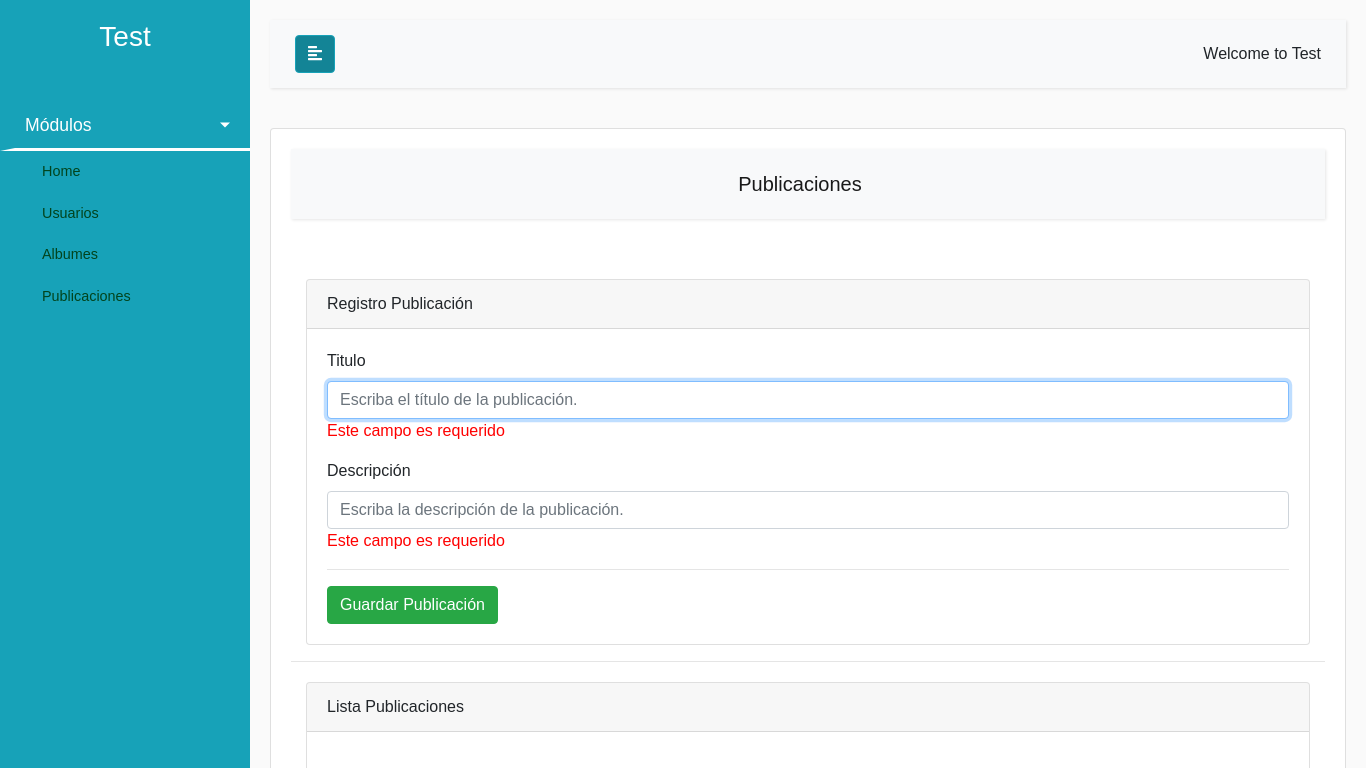
Post › validate function create data
Type "Hola Publicación" into the field with id "inpTitle" at (808, 400), box top-left (327, 381), bottom-right (1289, 419)
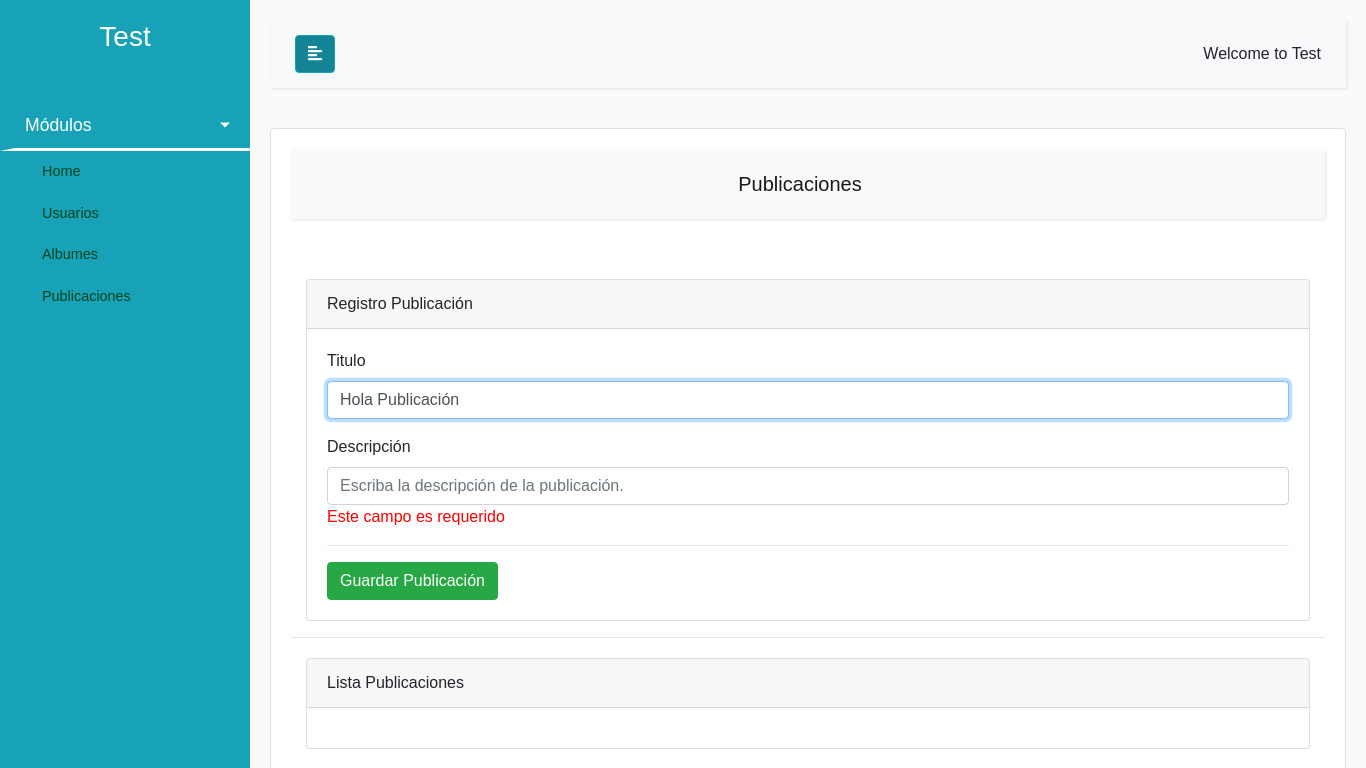
Type "Description Test hello" into the field with id "inpDescription" at (808, 486), box top-left (327, 467), bottom-right (1289, 505)
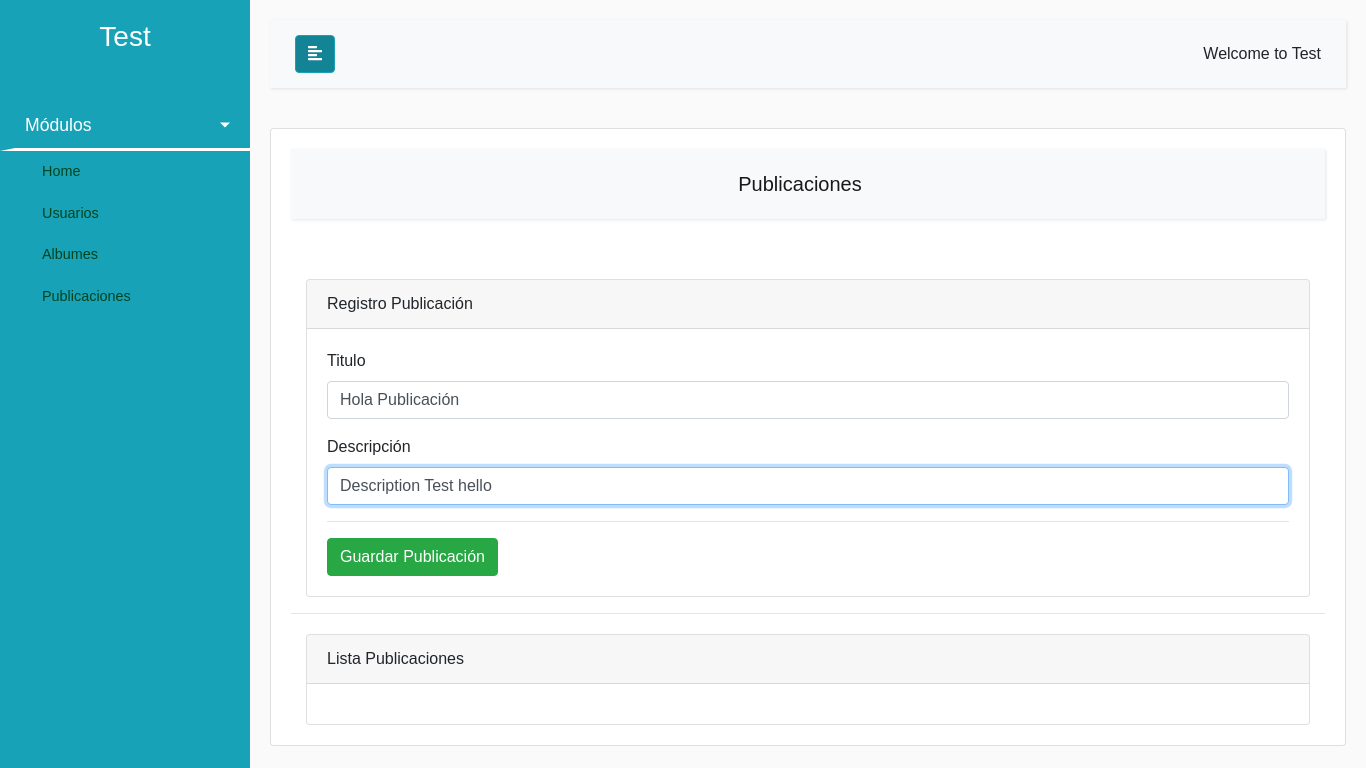
Click the button with id "btnAddPost" at (413, 557), box top-left (327, 538), bottom-right (498, 576)
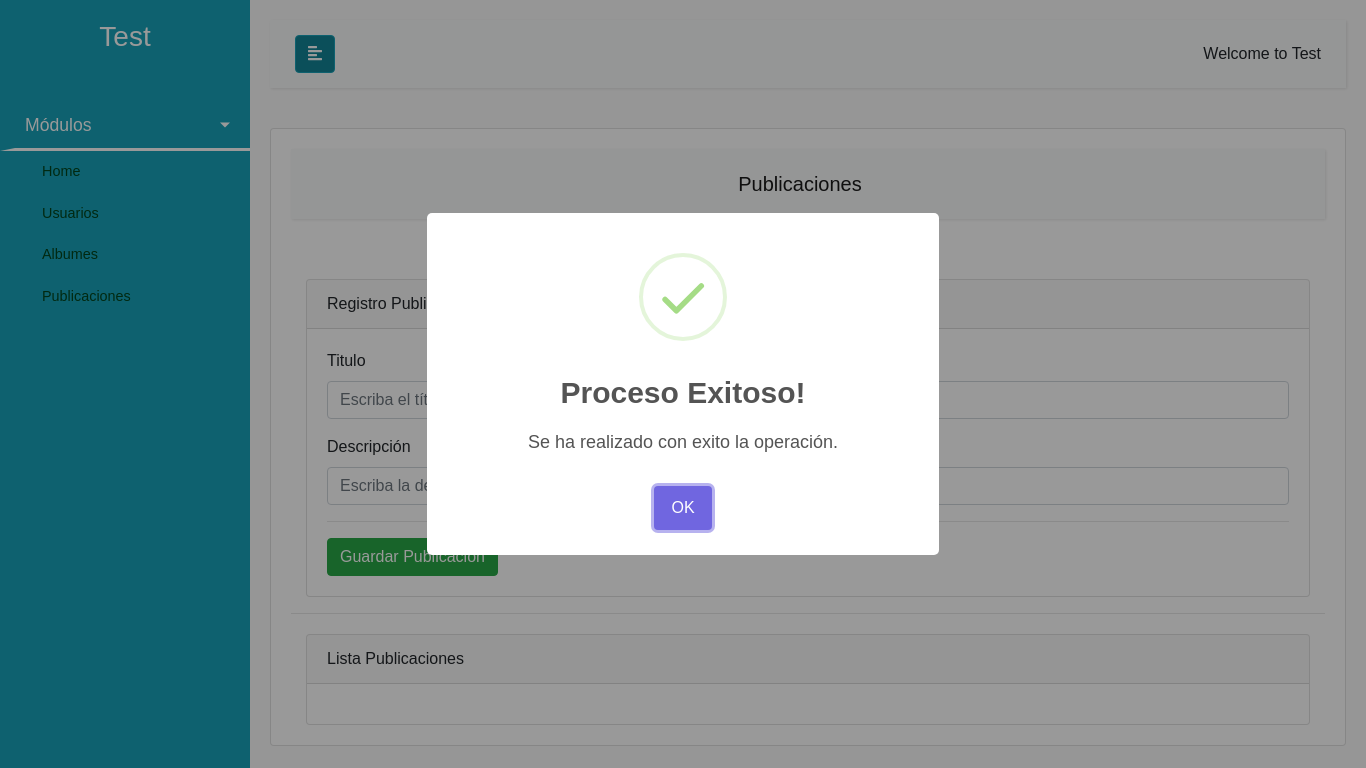
expect the heading "Proceso Exitoso!" is shown: met, box top-left (560, 376), bottom-right (806, 409)
